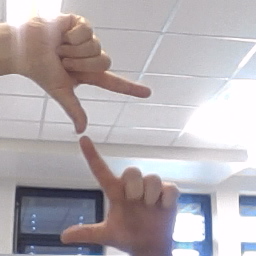Z: (6, 11, 185, 250)
